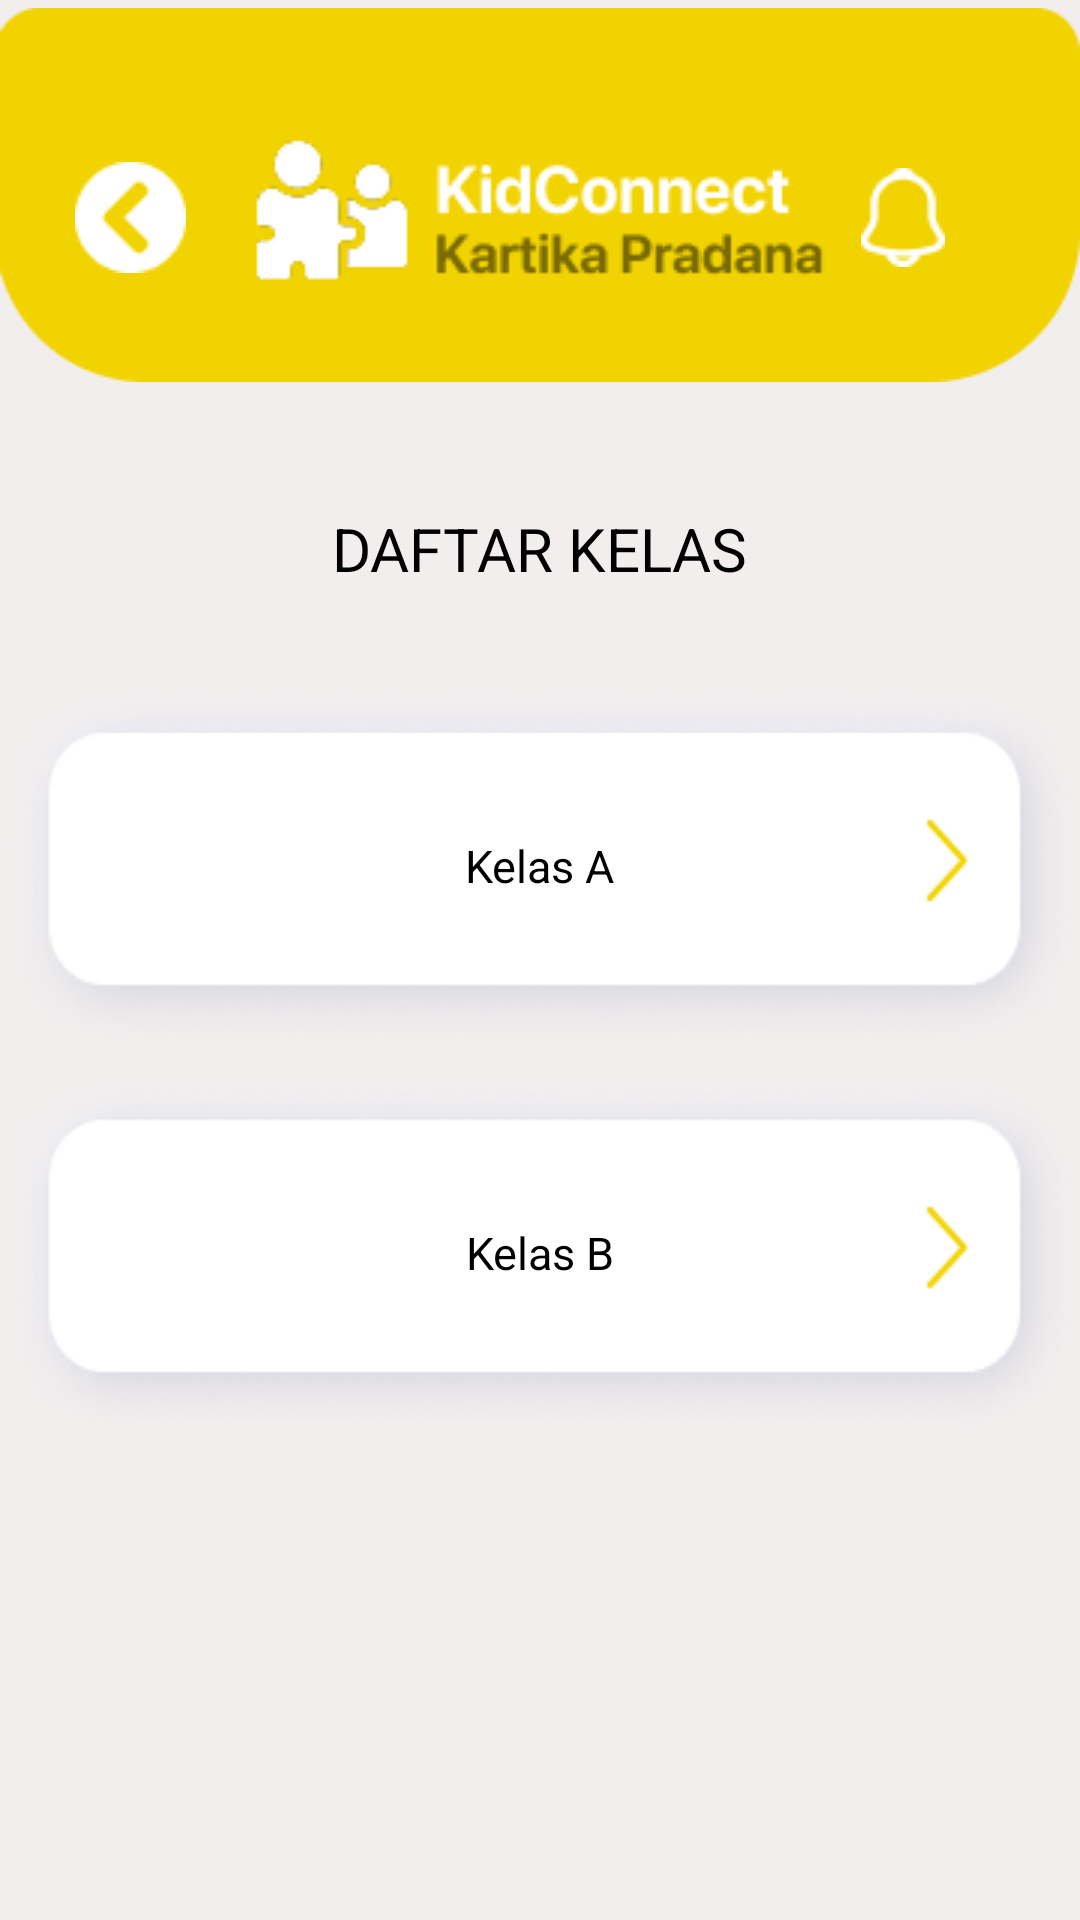

Where icons sit on this 1080 x 1920 app screen, as [left=x1, top=y1, right=x2, bottom=y2]:
back: [left=75, top=162, right=186, bottom=273]
notif: [left=861, top=168, right=945, bottom=267]
